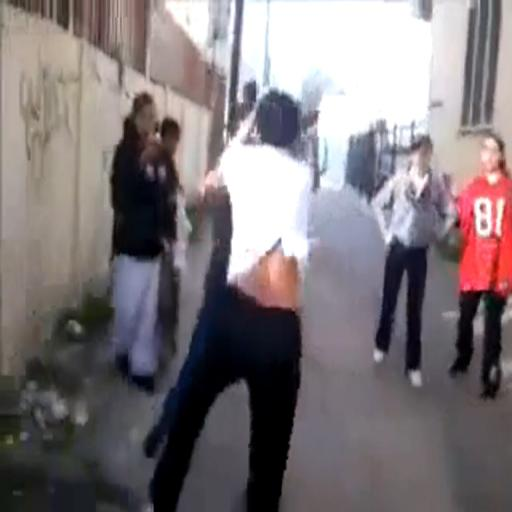violencia: (142, 68, 315, 512)
